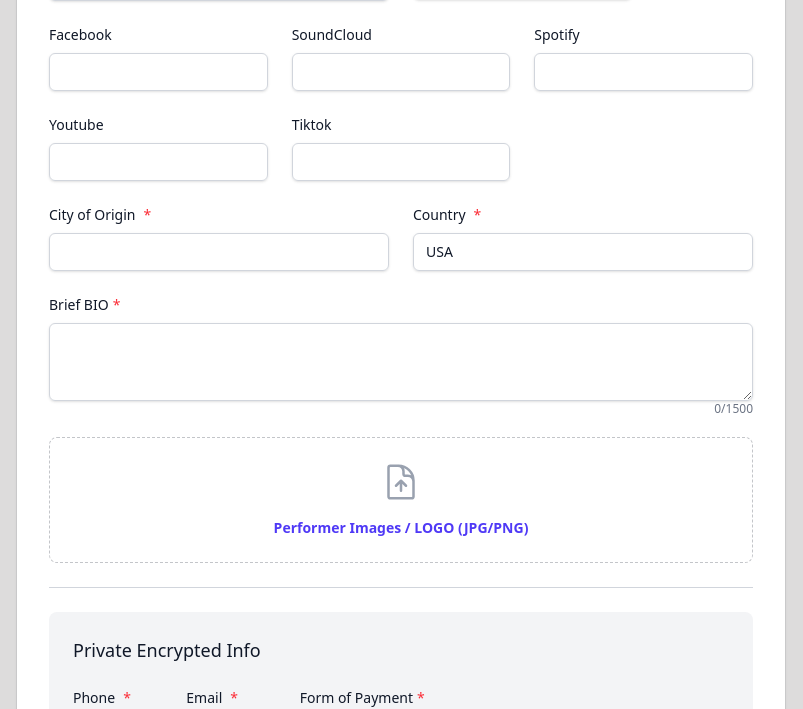
TalentForm › validates bio for repetitive phrases
(page scrolled)
Type "I am great I am great I am great" into the text box labelled "Brief BIO*" at (401, 362), box [49, 323, 753, 401]
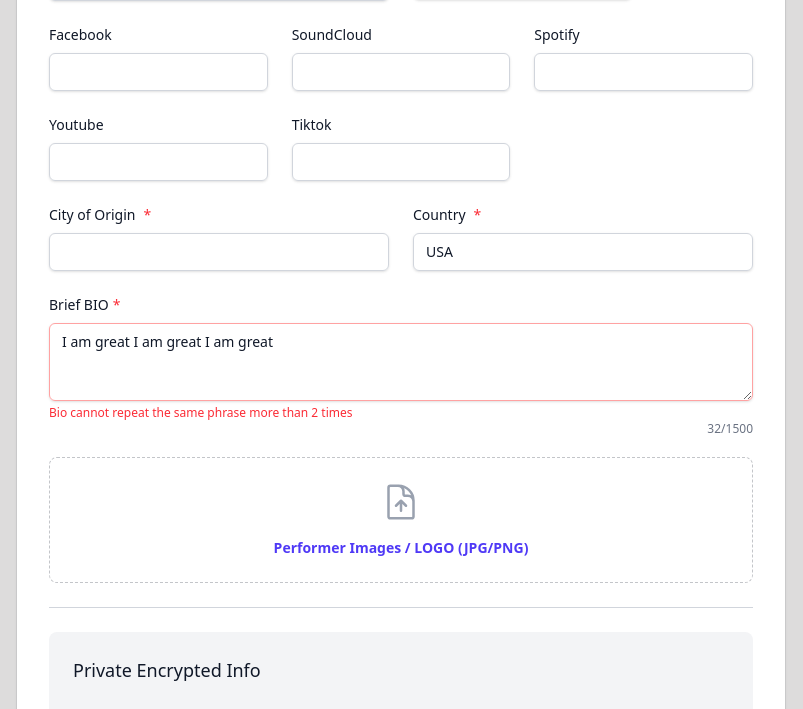
expect the text "Bio cannot repeat the same phrase more than 2 times" is shown: met, box [49, 404, 352, 421]
